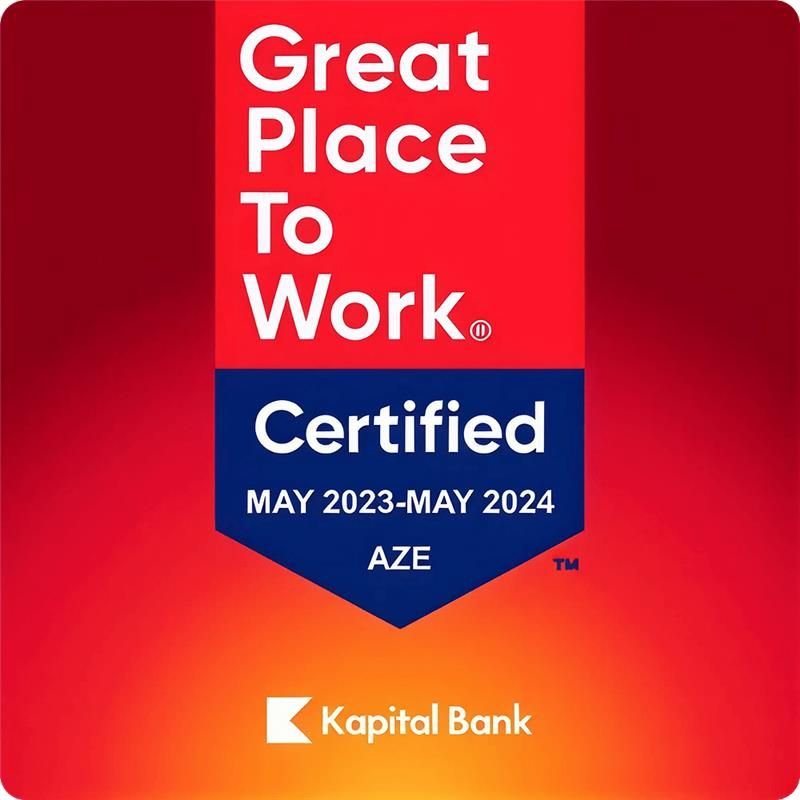Kapital Bank: (265, 696, 314, 745)
